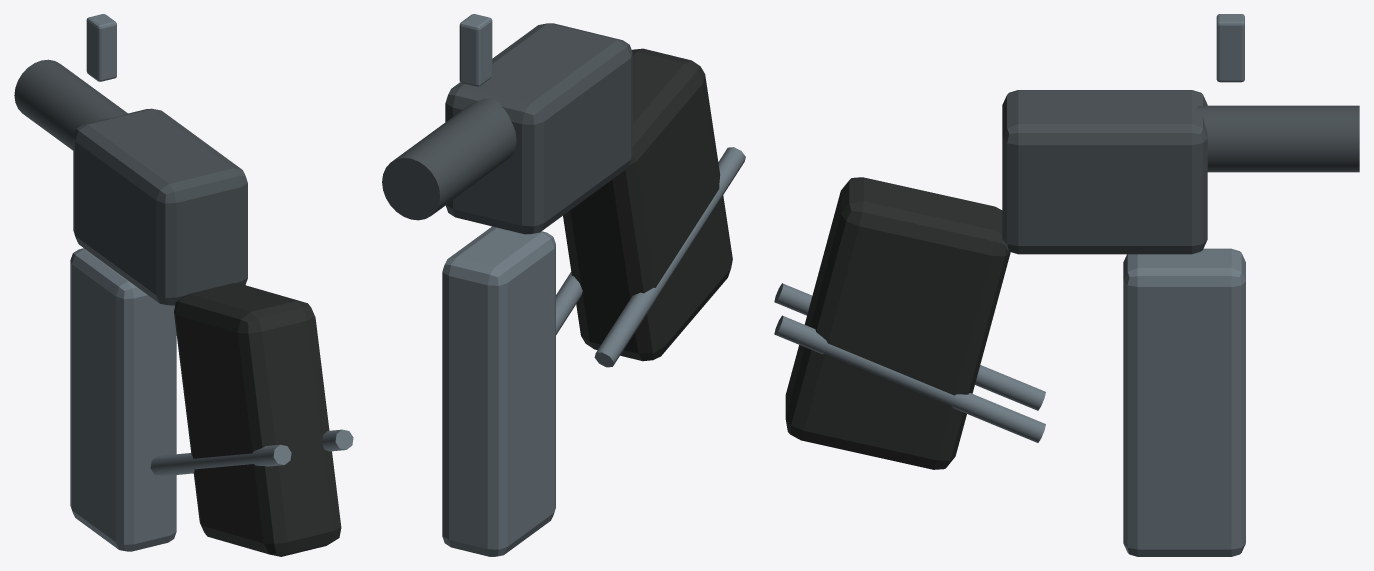
The model's file is Pistol.fbx.
The picture shows the model from 3 angles, left to right: view 1: azimuth 30°, elevation 25°; view 2: azimuth 150°, elevation 25°; view 3: azimuth 270°, elevation 25°; orthographic projection. The views are drawn at different scales.
Parts seen in each view (by area): view 1: Body.022; view 2: Body.022; view 3: Body.022.
Part boxes in pixels (x1=…): Body.022: x1=14, y1=14, x2=353, y2=556; Body.022: x1=382, y1=14, x2=745, y2=556; Body.022: x1=774, y1=14, x2=1359, y2=556.
Bounding box in the file's own units: 0.07 × 0.367 × 0.3679.
